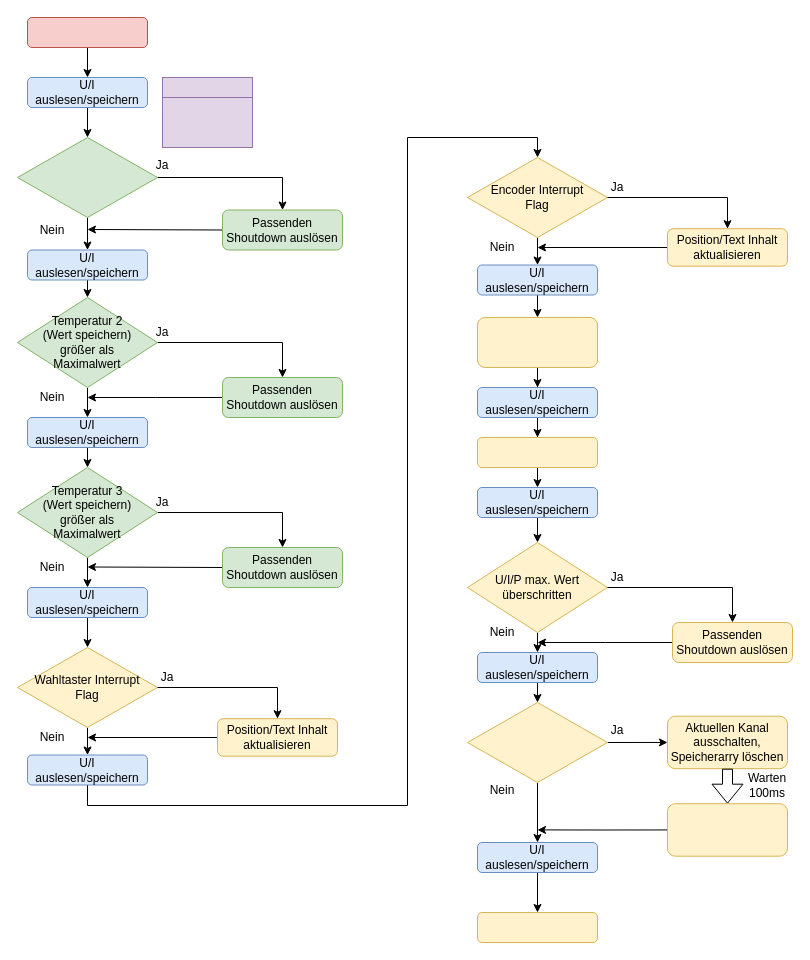
This 810x960 diagram has some shape labels left out. The centre of each missing label's shape, as x and y in pixels:
Anderen Kanal einschalten: point 727,829
Arraycounter, Strompin, Spannungspin: point 207,122
Berechnung P Q1: point 537,452
Bildschirm aktualisieren: point 537,927
Kanal Flag gesetzt: point 537,742
Pin Config: point 87,32
Speicherarray: point 207,87
Temperatur 1 (Wert speichern) größer als Maximalwert: point 87,177
U/I arithmetisches Mittel bilden: point 537,342
